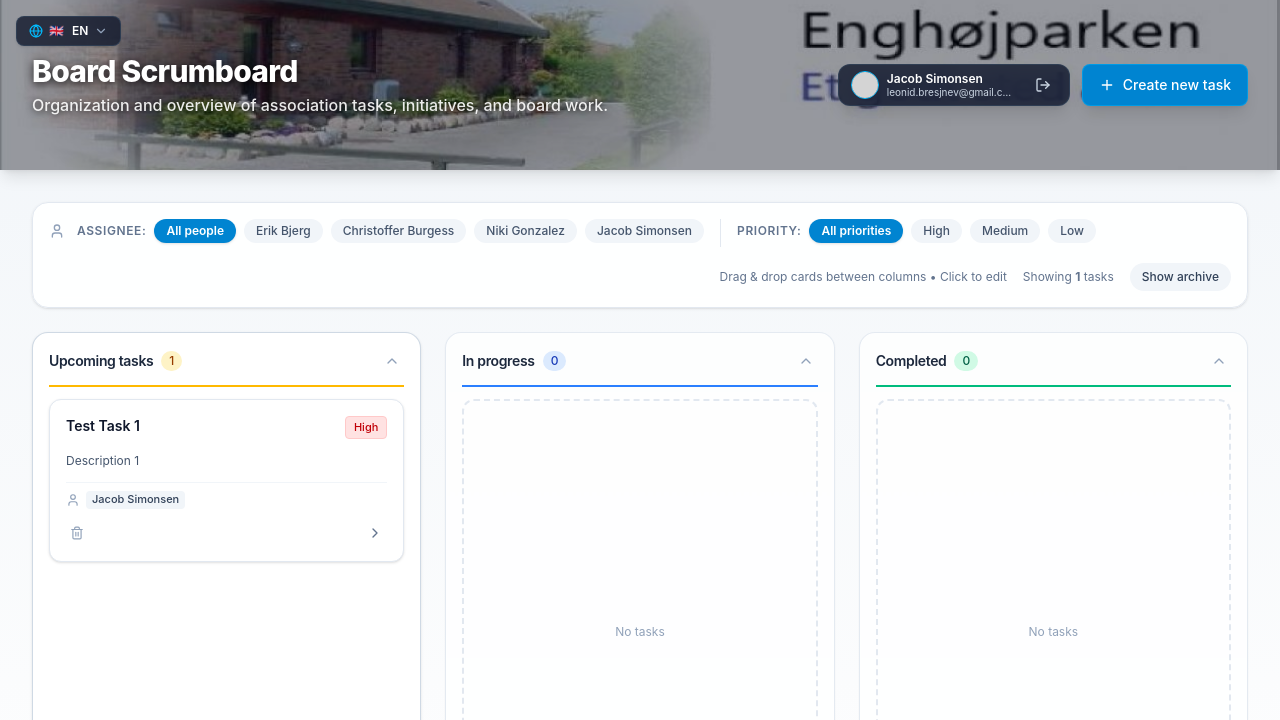
it: Internationalization and LanguageSelector Tests › translates modal forms when language is set to English
Click the button "Create new task" at (1165, 85), box [1082, 64, 1248, 106]
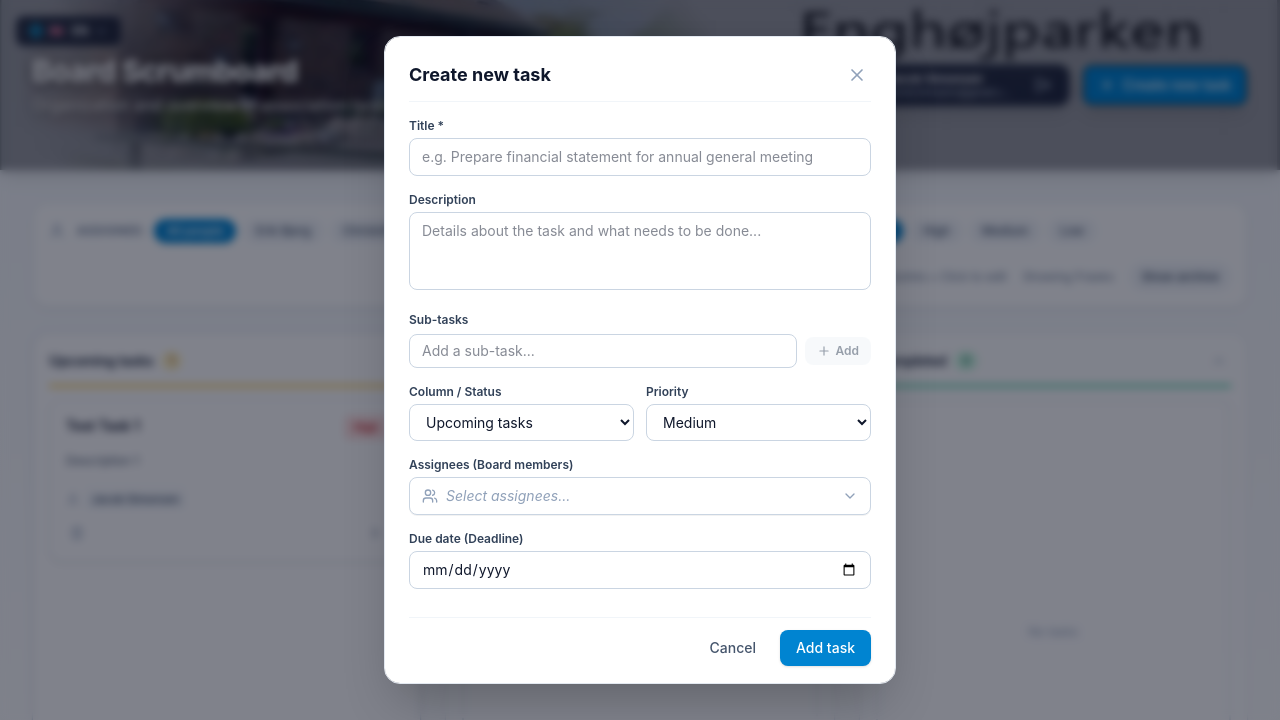
Expected: the heading "Create new task" is shown, [409, 61, 551, 89]
Expected: the field with placeholder "e.g. Prepare financial statement for annual general meeting" is shown, [409, 138, 871, 176]
Expected: the button "Add task" is shown, [780, 630, 871, 666]
